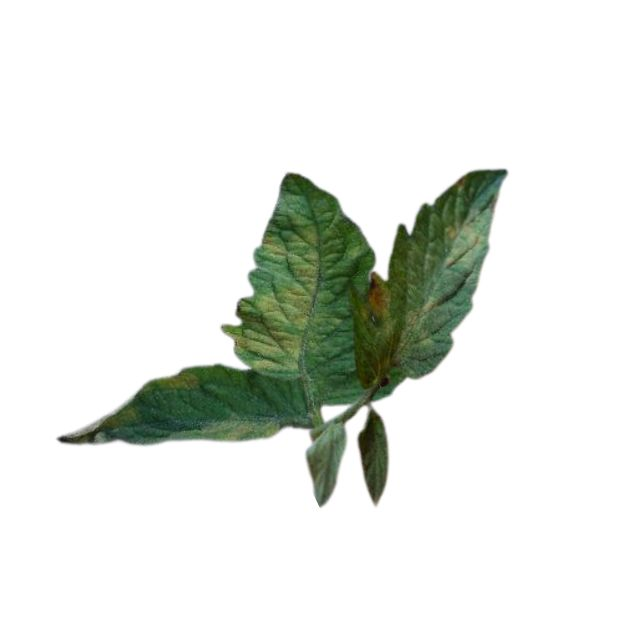Leaf_Mold: (222, 207, 341, 379), (382, 291, 440, 366), (53, 402, 142, 447), (170, 414, 282, 444), (440, 214, 486, 272), (147, 366, 204, 396), (362, 274, 390, 333)
